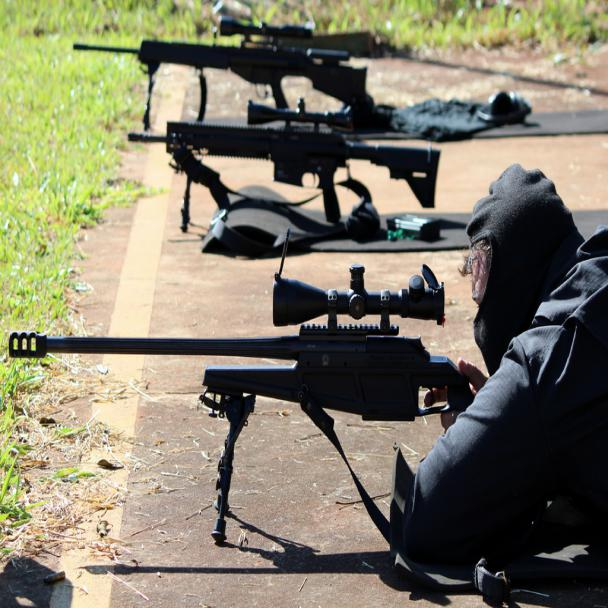Gun: (0, 246, 457, 470), (112, 101, 446, 228), (66, 17, 369, 118)
